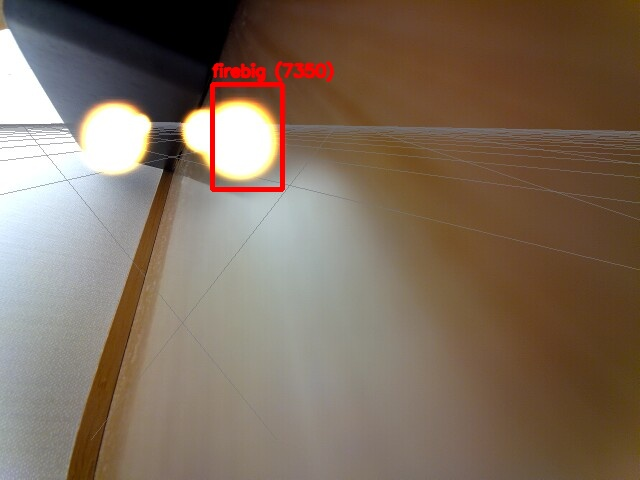firebig: (212, 84, 282, 189)
